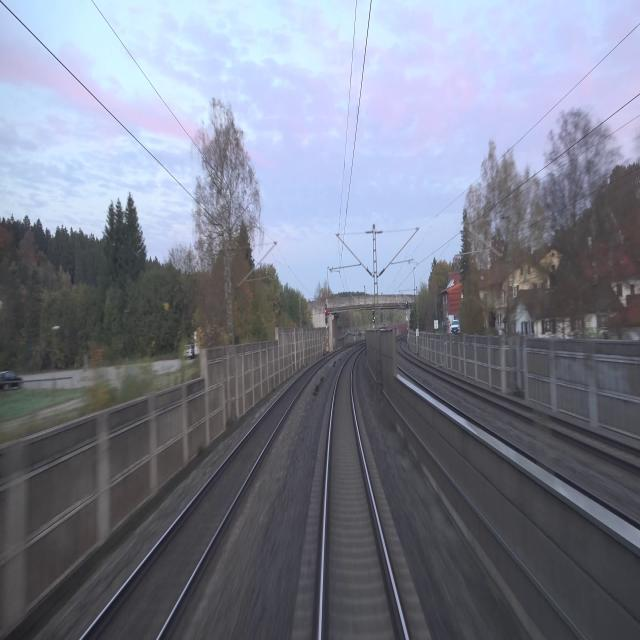rail-track: (85, 367, 314, 639), (323, 354, 405, 639), (440, 372, 640, 462)
